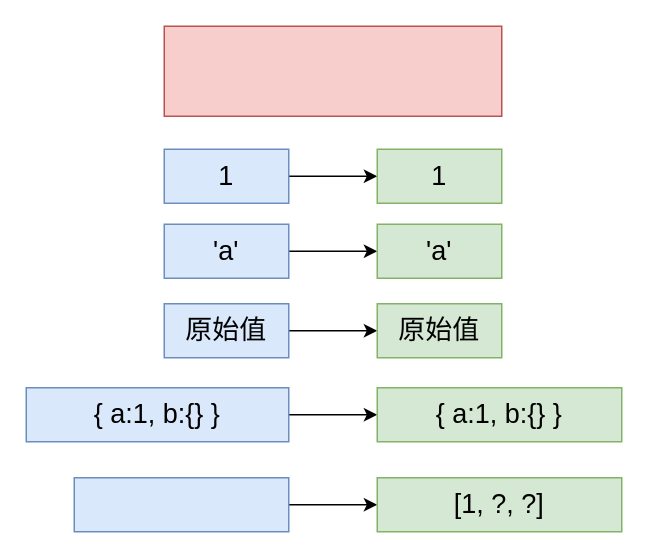
This 648x558 diagram has some shape labels left out. Each missing label, with the centre of its shape:
[1, 'a', {}]: point 181,504
深度克隆: point 332,70
